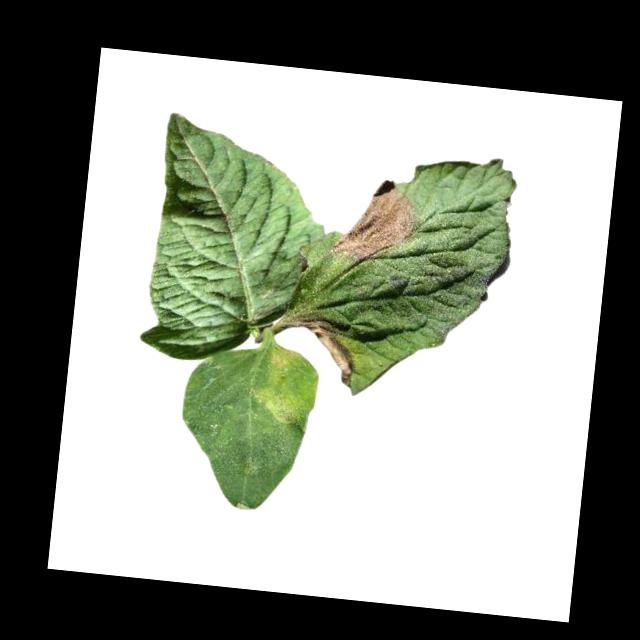Late_blight: (330, 174, 423, 267), (250, 342, 322, 429), (286, 312, 362, 388)
healthy: (137, 113, 335, 374)
